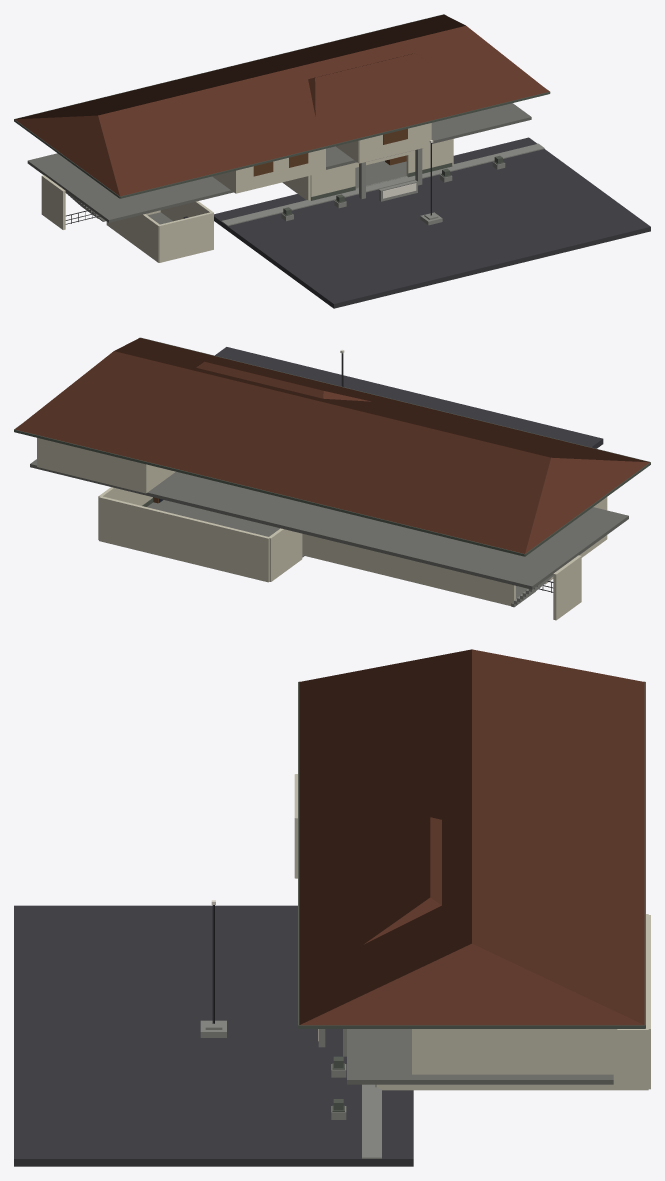
Rendered from school_building.obj.
3 renders of one model, top to bottom at view 1: azimuth 30°, elevation 25°; view 2: azimuth 150°, elevation 25°; view 3: azimuth 270°, elevation 25°, orthographic. The views are drawn at different scales.
Bounding box in the file's own units: 50.44 × 12.4 × 38.25.
